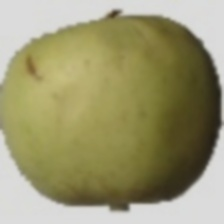apple: (26, 14, 173, 200)
